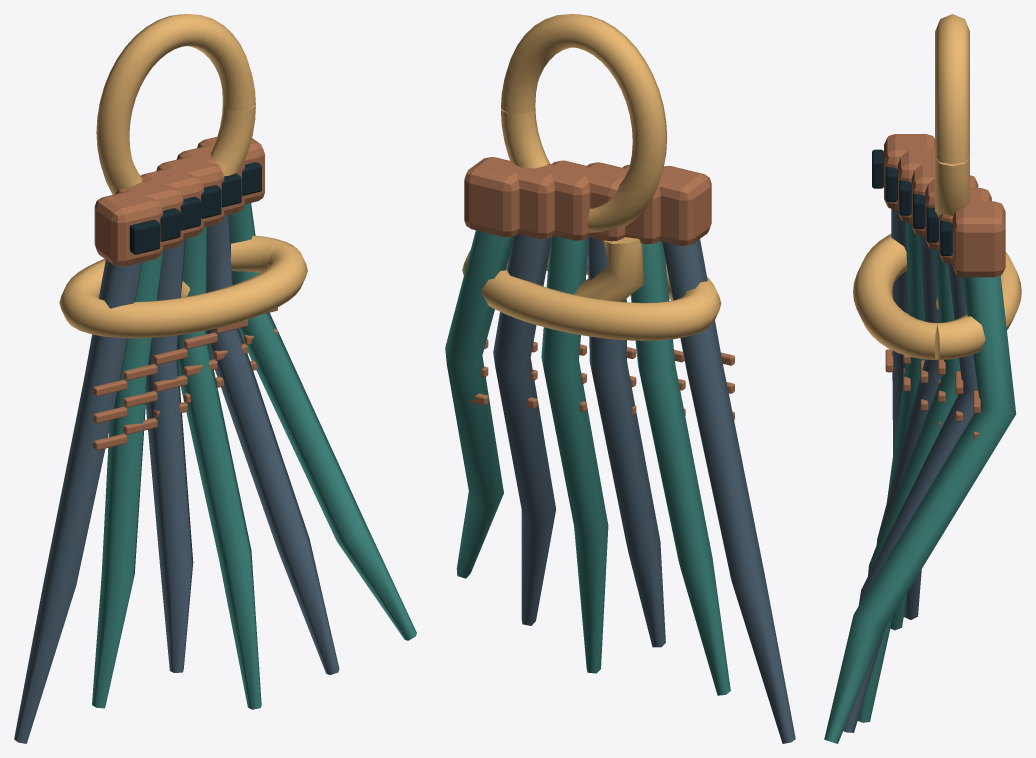
3 views of the same model, side by side, from view 1: azimuth 30°, elevation 25°; view 2: azimuth 150°, elevation 25°; view 3: azimuth 270°, elevation 25° (orthographic). The views are drawn at different scales.
Parts seen in each view (by area): view 1: PR133 enamel and hardware; view 2: PR133 enamel and hardware; view 3: PR133 enamel and hardware.
Part boxes in pixels (x1,y1,x2,y2): PR133 enamel and hardware: (14, 14, 416, 743); PR133 enamel and hardware: (445, 14, 795, 743); PR133 enamel and hardware: (824, 14, 1021, 743).
Size of the model in its own units: 0.147 by 0.26 by 0.0681.
